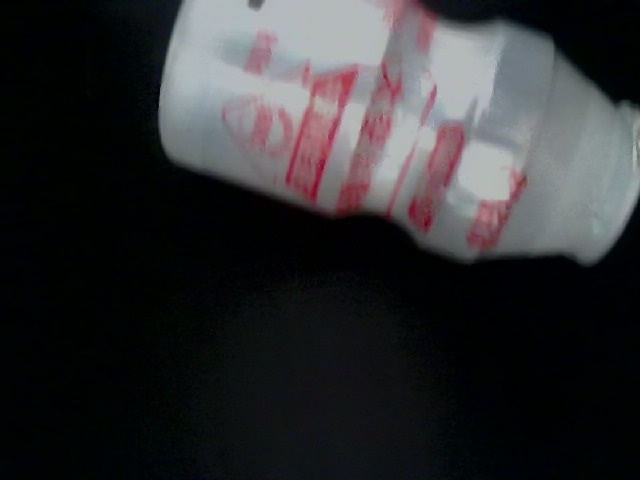CYLJ: (240, 1, 609, 170)
